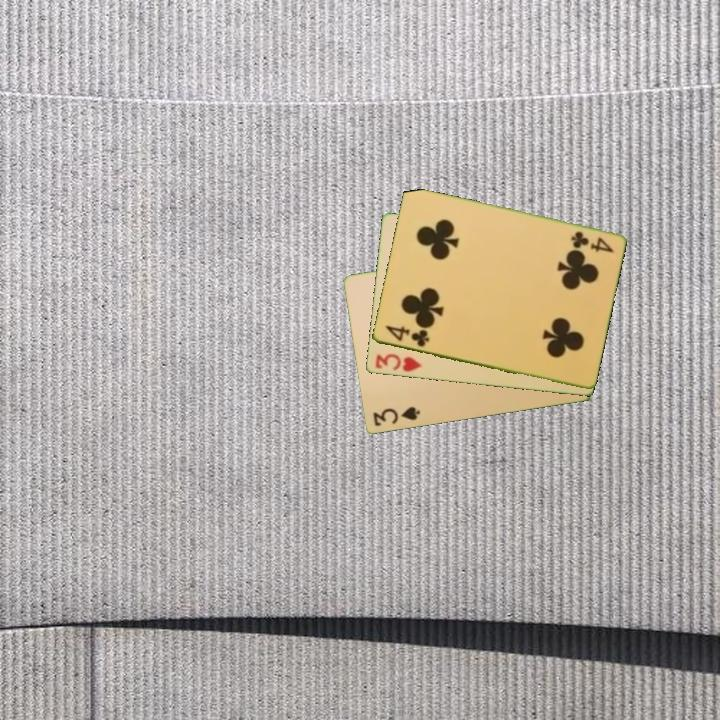3h: (372, 350, 424, 375)
3s: (369, 403, 422, 429)
4c: (382, 322, 432, 350), (567, 228, 616, 256)
